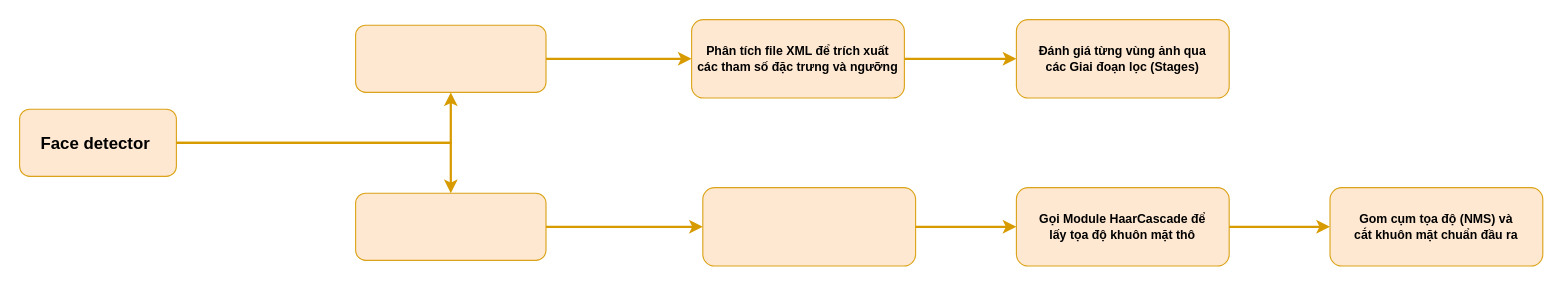
The diagram is 1562 pixels wide and 286 high, and some of its shapes have lost their labels. The shapes that lost their labels are listed below. From the top down, each one's centre as x and y in pixels, then its label:
At (x=450, y=58): "1. Module HaarCascade (Lõi Thuật toán)".
At (x=450, y=226): "2. Module FaceDetector (Xử lý Luồng dữ liệu)".
At (x=809, y=226): "Nhận ảnh từ Camera và chuyển sang ảnh Đơn sắc".
